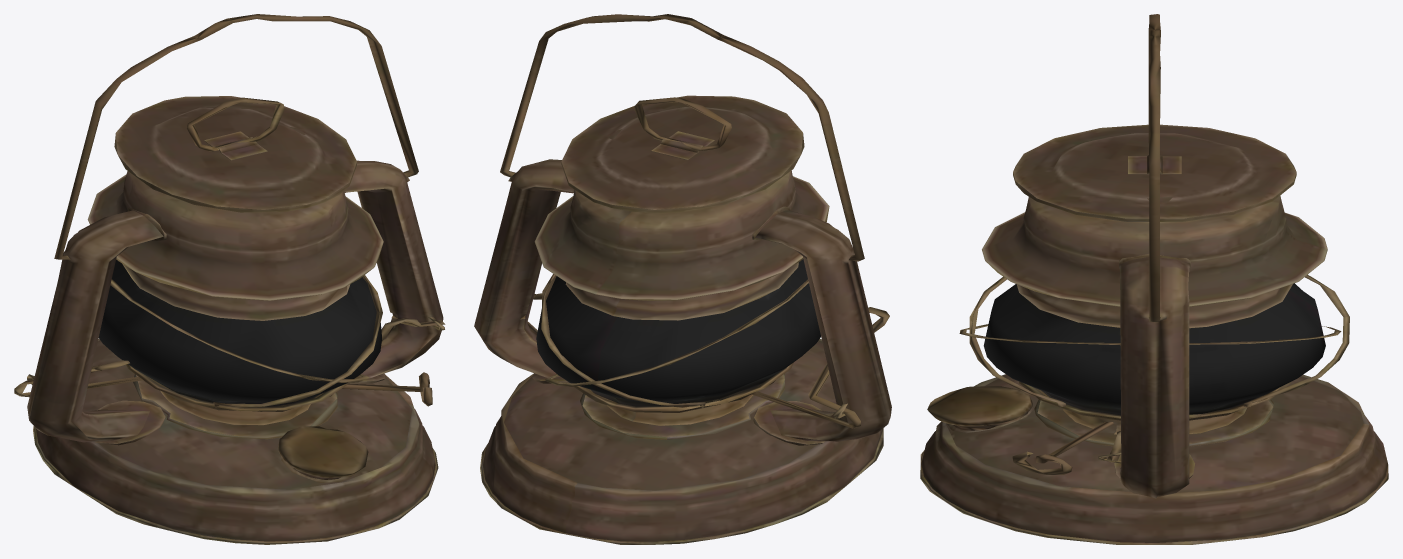
Rendered from ph-lantern-01.glb.
The picture shows the model from 3 angles, left to right: view 1: azimuth 30°, elevation 25°; view 2: azimuth 150°, elevation 25°; view 3: azimuth 270°, elevation 25°; orthographic projection.
Parts seen in each view (by area): view 1: Lantern_01, Lantern_01_glass; view 2: Lantern_01, Lantern_01_glass; view 3: Lantern_01, Lantern_01_glass.
Boxes of the visible parts, x1,y1,x2,y2 form: Lantern_01: (14,14,445,544); Lantern_01_glass: (98,259,381,406); Lantern_01: (474,14,891,544); Lantern_01_glass: (536,259,820,406); Lantern_01: (920,14,1388,544); Lantern_01_glass: (983,283,1325,415).
Size of the model in its own units: 0.9982 by 0.9935 by 0.9866.
Materials: 2 (2 with a texture image).
